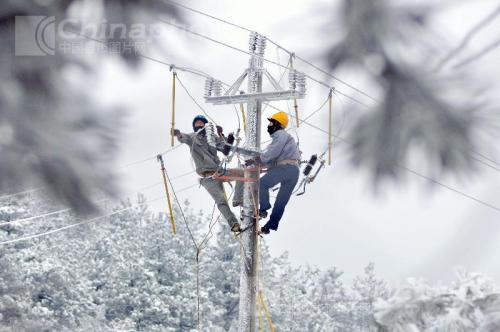boots: (230, 223, 240, 231), (258, 209, 267, 217), (261, 226, 270, 233)
hard-hat: (268, 112, 289, 128), (192, 114, 208, 128)
person: (170, 113, 242, 232), (247, 110, 302, 233)
